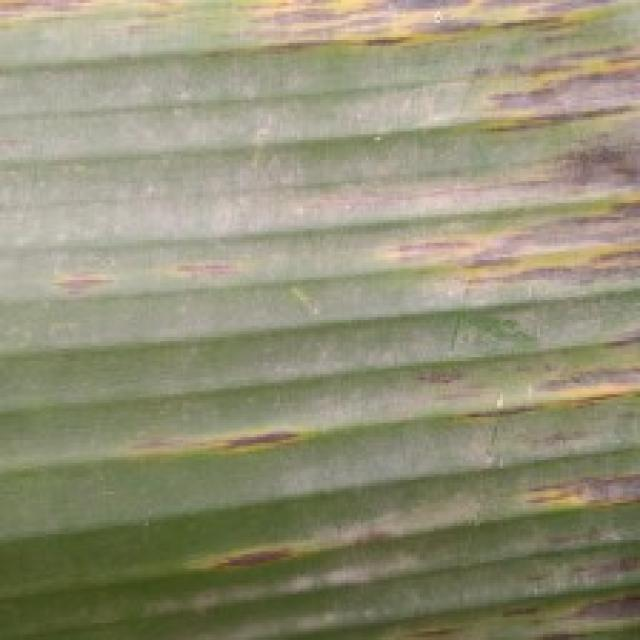Early_leaf_spot: (405, 308, 640, 640), (372, 55, 640, 315), (226, 0, 637, 63), (127, 396, 306, 476), (32, 250, 236, 304), (176, 510, 289, 577), (0, 0, 110, 39), (104, 0, 190, 40)
